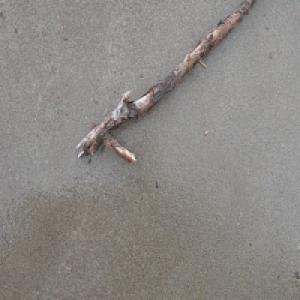Wood: (74, 0, 257, 164)
